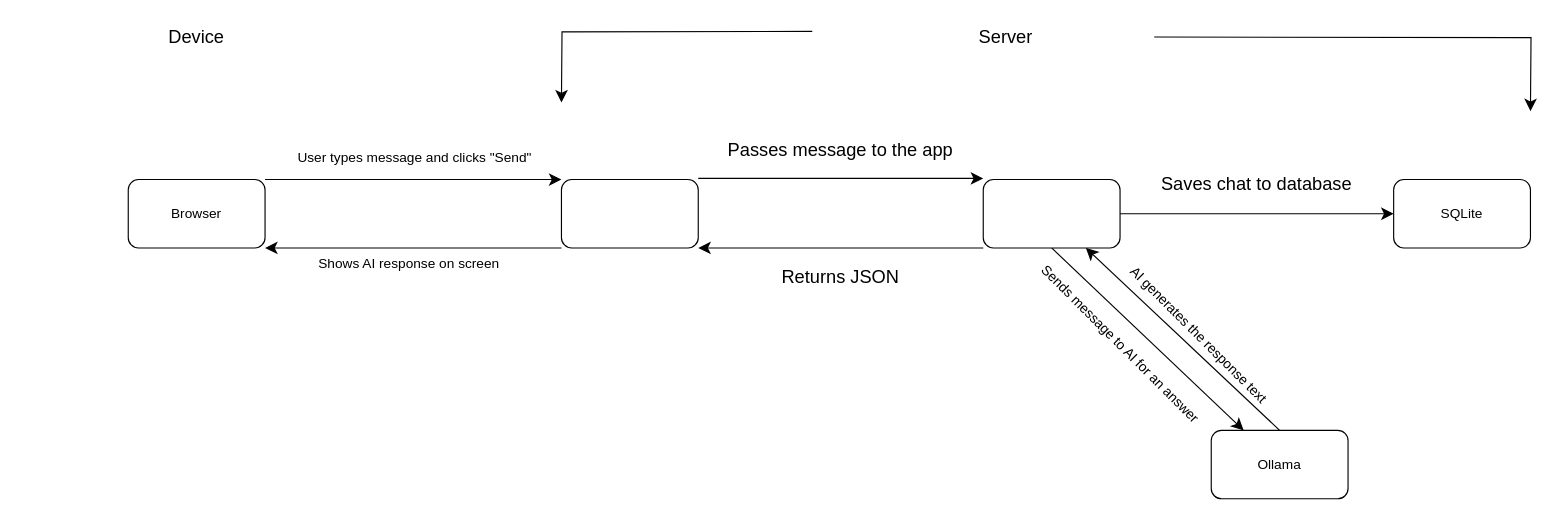
This 1562x519 diagram has some shape labels left out. The centre of each missing label's shape, as x and y in pixels:
"Bun" goes at (x=1051, y=213).
"Nginx" goes at (x=629, y=213).
